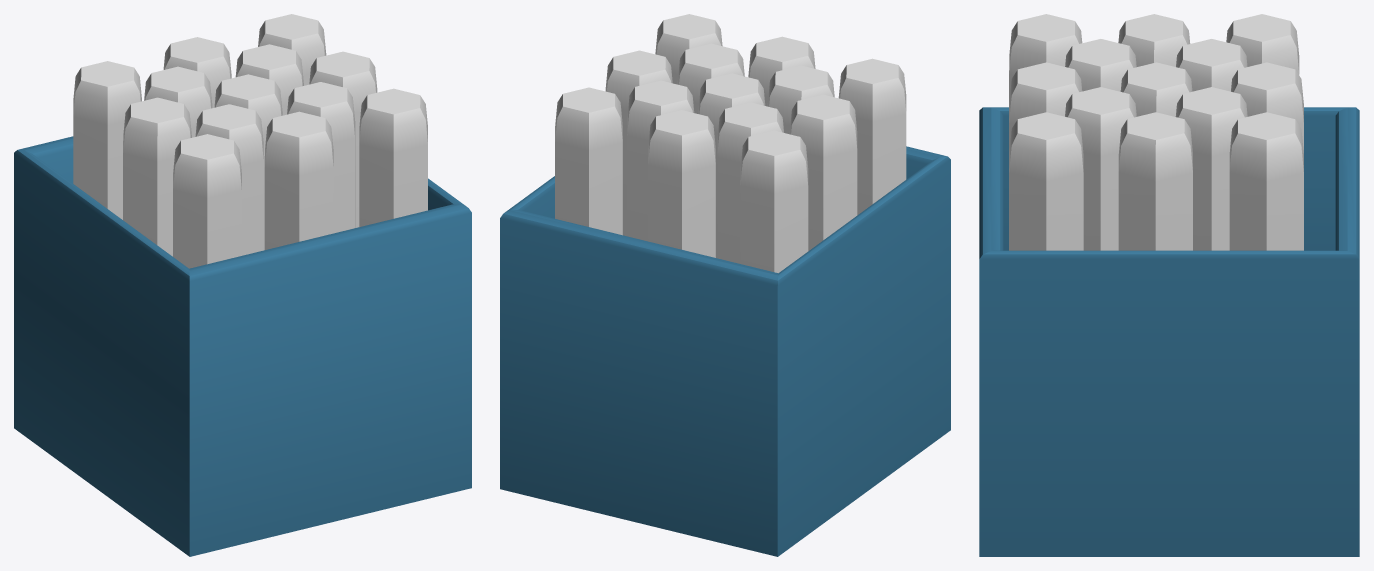
The model's file is Chalk_Box.fbx.
3 renders of one model, left to right at view 1: azimuth 30°, elevation 25°; view 2: azimuth 150°, elevation 25°; view 3: azimuth 270°, elevation 25°, orthographic. The views are drawn at different scales.
Parts seen in each view (by area): view 1: Chalk_Box; view 2: Chalk_Box; view 3: Chalk_Box.
Boxes of the visible parts, x1,y1,x2,y2 form: Chalk_Box: [14, 14, 471, 556]; Chalk_Box: [500, 14, 950, 556]; Chalk_Box: [979, 14, 1359, 556].
Size of the model in its own units: 12.69 by 16.14 by 13.7.
